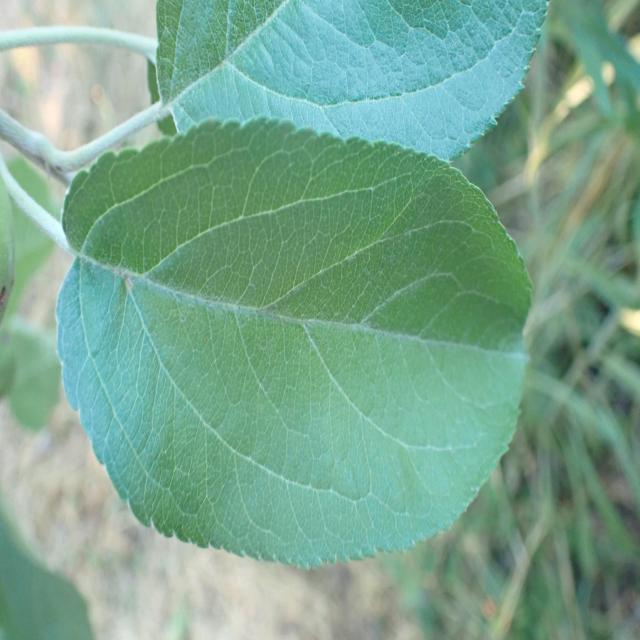healthy: (56, 116, 534, 570), (156, 0, 550, 164)
